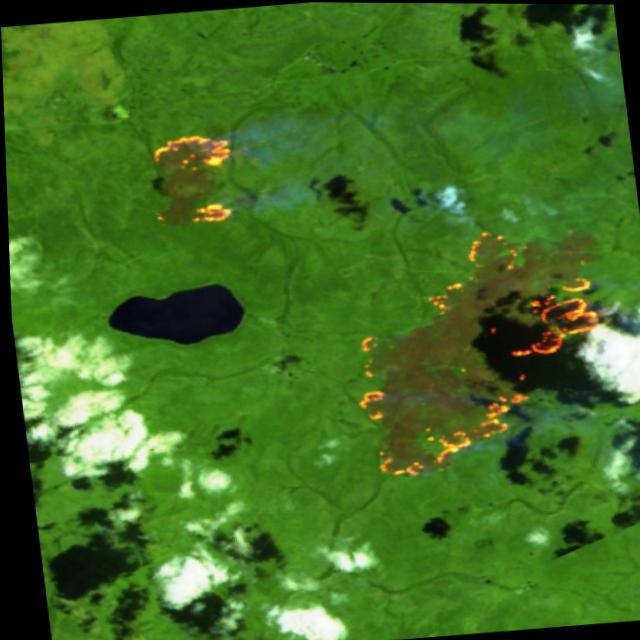fire: (320, 212, 625, 491), (133, 124, 243, 237)
